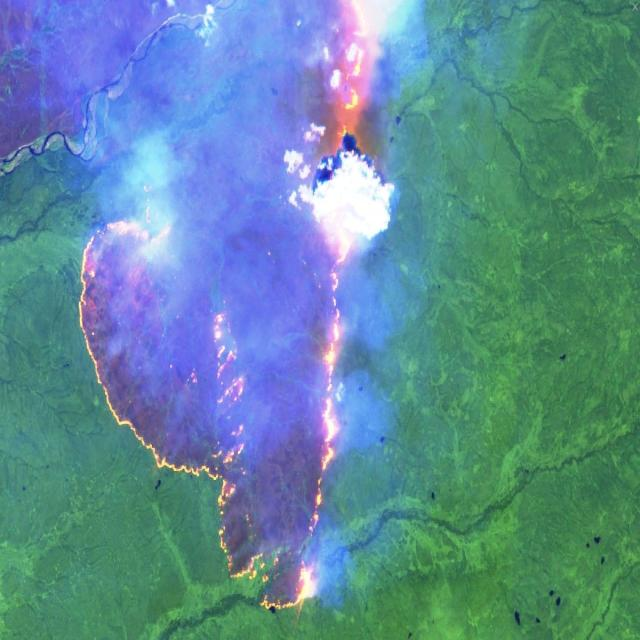fire: (77, 0, 384, 619)
